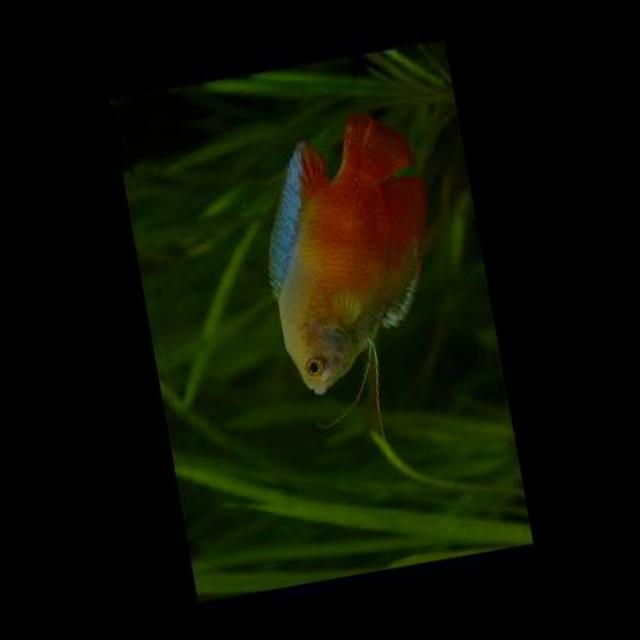Gourami: (233, 97, 460, 400)
